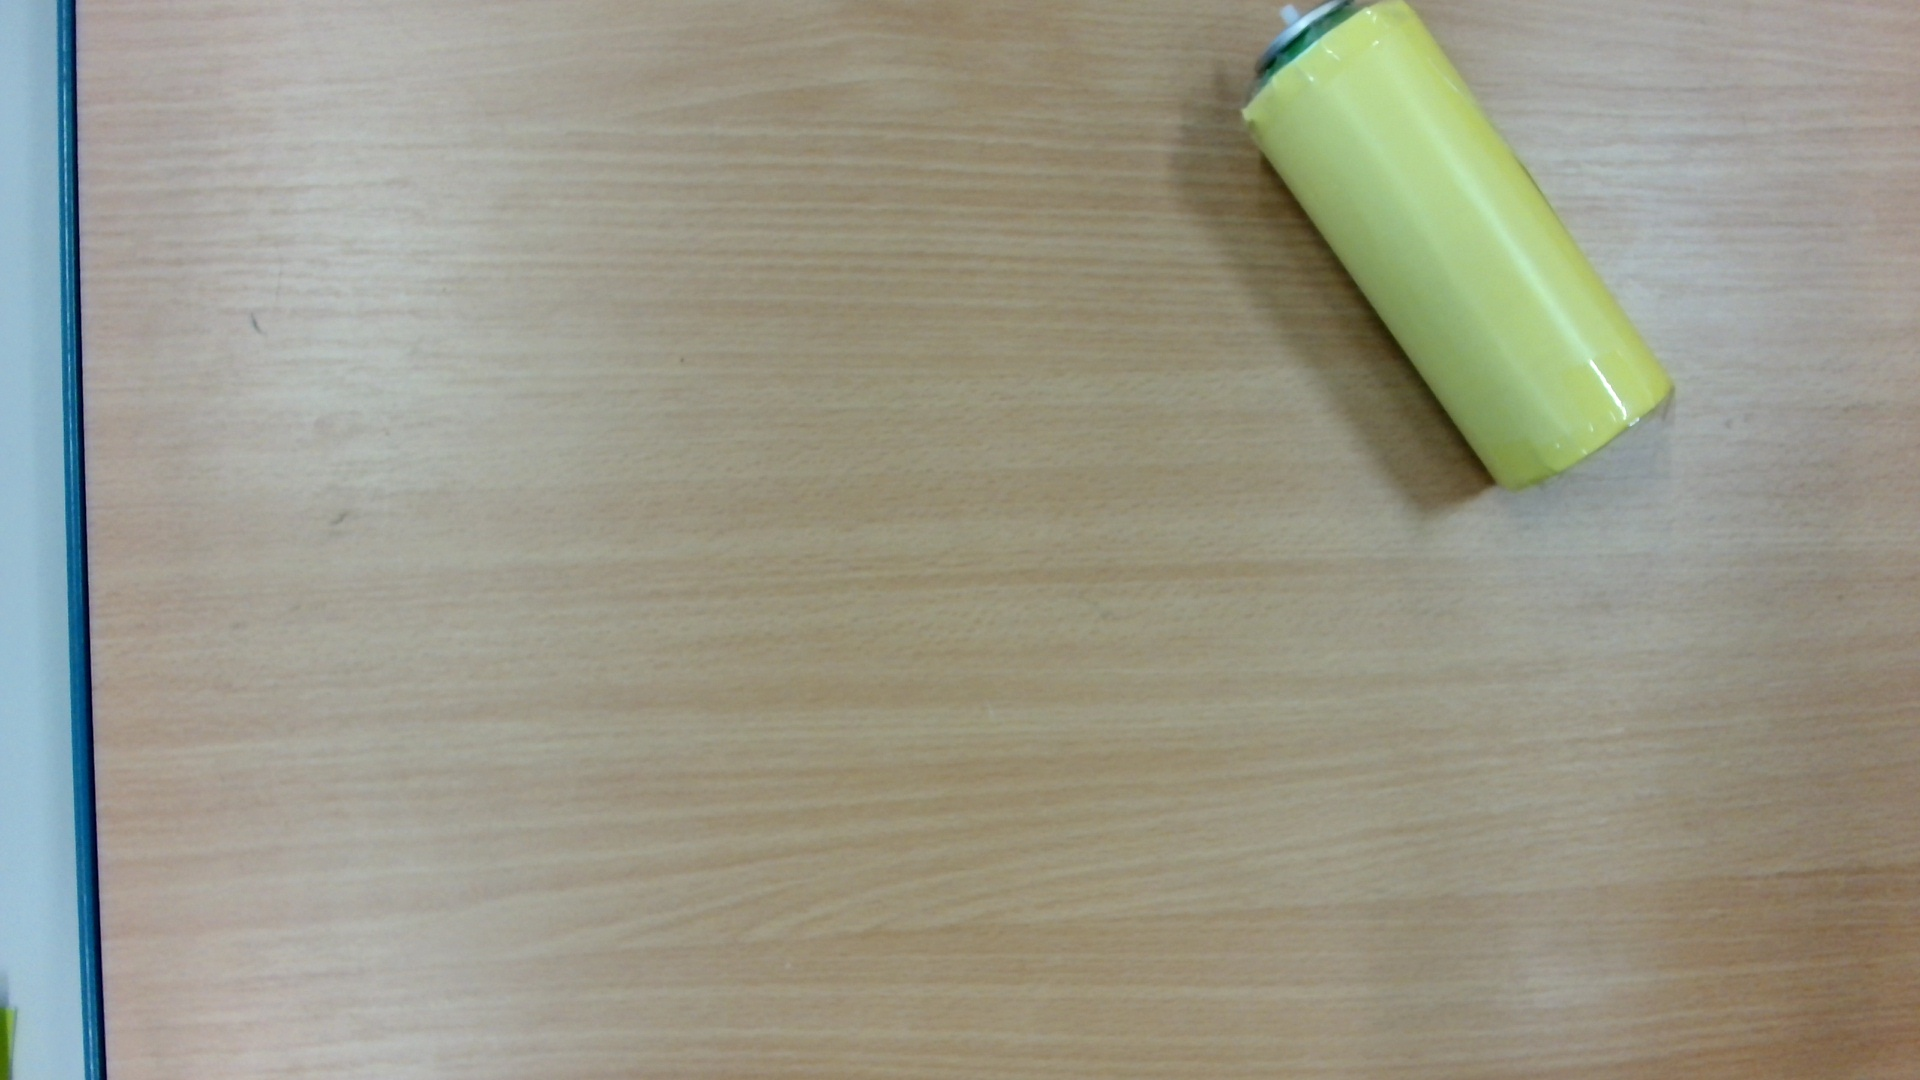Cylinder: (1216, 1, 1700, 505)
